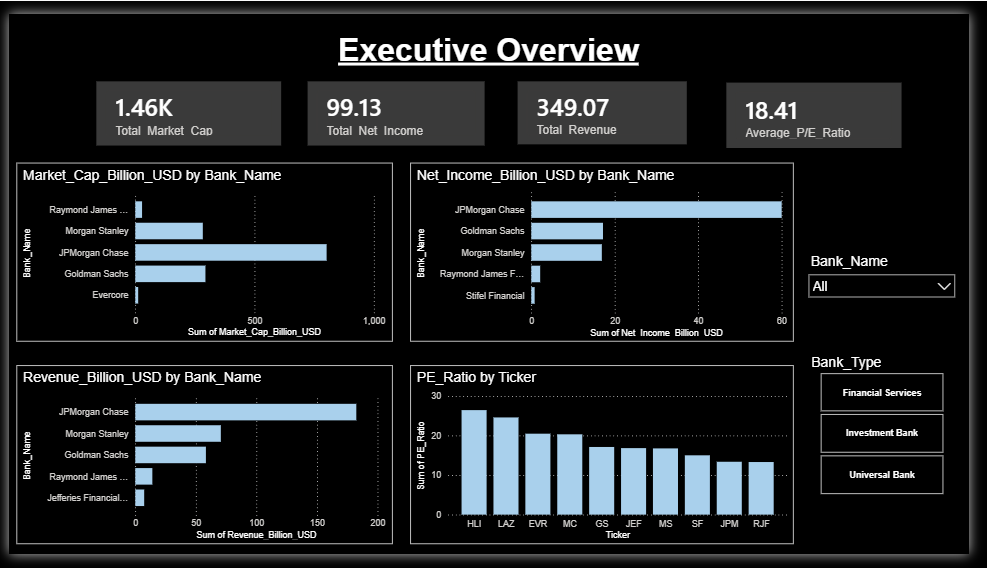

The page's visual inventory and layout, read from the dashboard file:
{"tool":"powerbi","page":{"name":"Exceutive Overview","canvas":[1280,720],"ordinal":0},"visuals":[{"type":"clusteredBarChart","title":"Market_Cap_Billion_USD by Bank_Name","fields":{"Category":["investment_bank_fundamentals.Bank_Name"],"Y":["Sum(investment_bank_fundamentals.Market_Cap_Billion_USD)"]},"box":[10,198.3,501.7,238.3],"z":0},{"type":"cardVisual","fields":{"Data":["Measure.Total_Net_Income"]},"box":[393.3,85,246.7,95],"z":1000},{"type":"clusteredBarChart","title":"Revenue_Billion_USD by Bank_Name","fields":{"Y":["Sum(investment_bank_fundamentals.Revenue_Billion_USD)"],"Category":["investment_bank_fundamentals.Bank_Name"]},"box":[10,468.3,501.7,238.3],"z":2000},{"type":"cardVisual","fields":{"Data":["Measure.Total_Revenue"]},"box":[672.9,85.7,235.7,94.3],"z":3000},{"type":"clusteredBarChart","title":"Net_Income_Billion_USD by Bank_Name","fields":{"Category":["investment_bank_fundamentals.Bank_Name"],"Y":["Sum(investment_bank_fundamentals.Net_Income_Billion_USD)"]},"box":[535.7,198.6,511.4,238.6],"z":4000},{"type":"cardVisual","fields":{"Data":["Measure.Average_P/E_Ratio"]},"box":[952,86,243,97],"z":5000},{"type":"columnChart","title":"PE_Ratio by Ticker","fields":{"Y":["Sum(investment_bank_fundamentals.PE_Ratio)"],"Category":["investment_bank_fundamentals.Ticker"]},"box":[535.7,468.6,511.4,238.6],"z":6000},{"type":"slicer","fields":{"Values":["investment_bank_master_lookup.Bank_Type"]},"box":[1061.7,438.3,205,223.3],"z":7000},{"type":"slicer","fields":{"Values":["investment_bank_master_lookup.Bank_Name"]},"box":[1055,303.8,217.5,112.5],"z":8000},{"type":"cardVisual","fields":{"Data":["Measure.Total_Market_Cap"]},"box":[111.7,85,256.7,95],"z":9000},{"type":"textbox","box":[255,18.3,768.3,65],"z":10000}]}

Visuals, with their boxes in screenshot pixels (x1, y1, x2, y2), scaled from the page's 1280x720 canvas onto the 987x568 screenshot:
"Market_Cap_Billion_USD by Bank_Name" clusteredBarChart: x1=8 y1=156 x2=395 y2=344
cardVisual - Measure.Total_Net_Income: x1=303 y1=67 x2=494 y2=142
"Revenue_Billion_USD by Bank_Name" clusteredBarChart: x1=8 y1=369 x2=395 y2=557
cardVisual - Measure.Total_Revenue: x1=519 y1=68 x2=701 y2=142
"Net_Income_Billion_USD by Bank_Name" clusteredBarChart: x1=413 y1=157 x2=807 y2=345
cardVisual - Measure.Average_P/E_Ratio: x1=734 y1=68 x2=921 y2=144
"PE_Ratio by Ticker" columnChart: x1=413 y1=370 x2=807 y2=558
slicer - investment_bank_master_lookup.Bank_Type: x1=819 y1=346 x2=977 y2=522
slicer - investment_bank_master_lookup.Bank_Name: x1=814 y1=240 x2=981 y2=328
cardVisual - Measure.Total_Market_Cap: x1=86 y1=67 x2=284 y2=142
textbox: x1=197 y1=14 x2=789 y2=66
